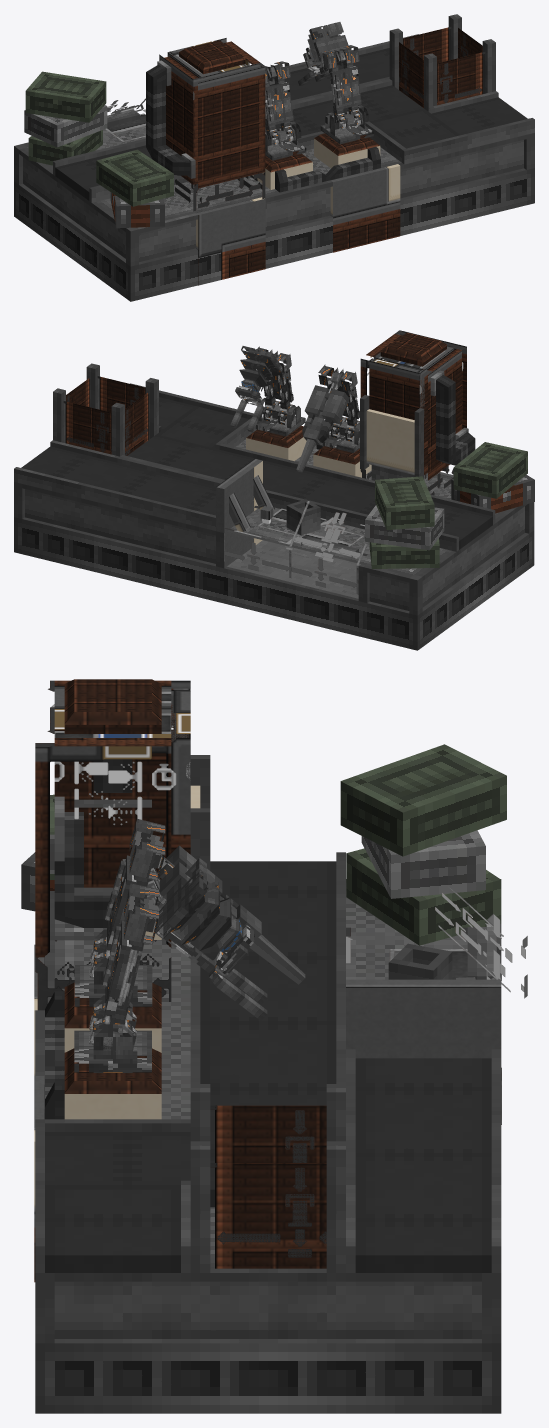
Rendered from ammunition_assembler_inv.obj.
3 views of the same model, one above another, from view 1: azimuth 30°, elevation 25°; view 2: azimuth 150°, elevation 25°; view 3: azimuth 270°, elevation 25° (orthographic). The views are drawn at different scales.
Visible parts, largest first — view 1: main, lower1, lower2, camera, inserter1, inserter2; view 2: main, door, upper2, lower1, camera, lower2, inserter1, inserter2; view 3: main, camera, lower1, lower2, inserter1, upper2, inserter2, upper1.
Part boxes in pixels (x1,y1,x2,y2): main: (14, 14, 534, 301); lower1: (320, 45, 363, 128); lower2: (265, 61, 295, 145); camera: (303, 22, 348, 70); inserter1: (320, 105, 373, 144); inserter2: (265, 121, 306, 160); main: (14, 330, 534, 650); door: (366, 409, 414, 475); upper2: (296, 372, 349, 472); lower1: (253, 346, 294, 424); camera: (235, 346, 282, 403); lower2: (318, 364, 359, 441); inserter1: (254, 398, 305, 436); inserter2: (321, 422, 359, 452); main: (21, 679, 527, 1413); camera: (155, 858, 253, 976); lower1: (89, 883, 158, 1051); lower2: (90, 818, 165, 978); inserter1: (74, 995, 151, 1072); upper2: (140, 837, 305, 984); inserter2: (74, 929, 152, 1006); upper1: (129, 899, 222, 986).
Bounding box in the file's own units: 6.11 × 3 × 3.26.
